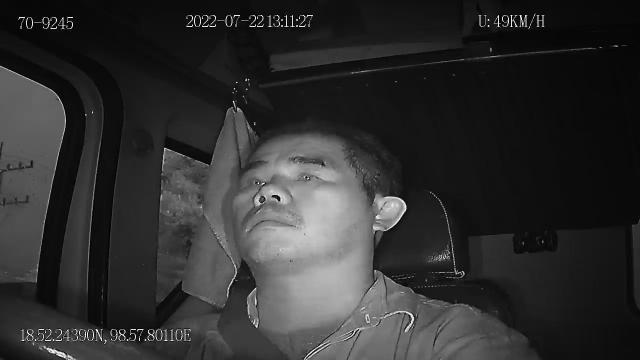SafeDriving: (288, 162, 330, 188)
Seatbelt: (214, 292, 292, 360)
